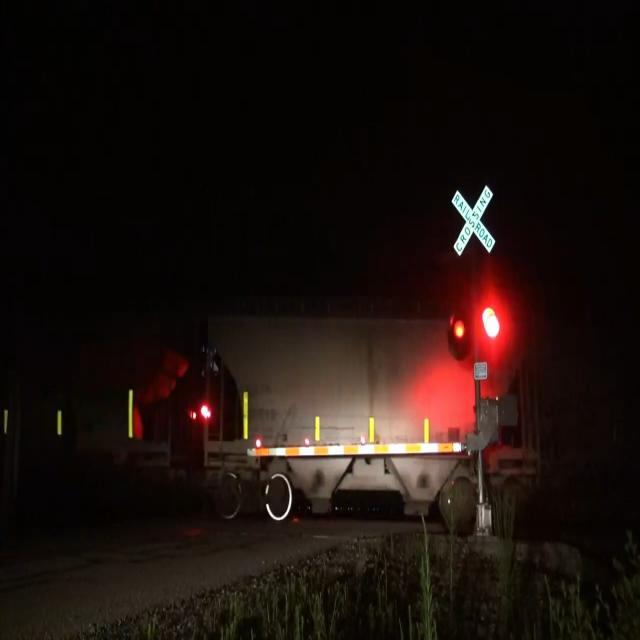hopper: (202, 273, 528, 533)
